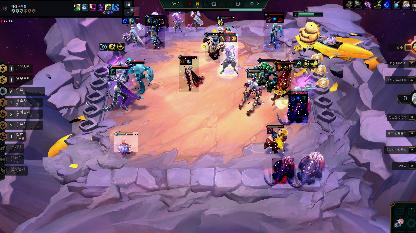1_bard: (267, 126, 285, 154)
1_nomsy: (272, 158, 294, 184)
1_soraka: (188, 10, 204, 32)
1_yasuo: (169, 12, 185, 32)
2_bard: (205, 32, 223, 60)
2_heimerdinger: (114, 132, 138, 152)
2_kaisa: (264, 12, 284, 52)
2_malphite: (258, 60, 276, 90)
2_nilah: (145, 15, 165, 49)
2_nomsy: (302, 154, 324, 186), (288, 91, 308, 123)
2_rakan: (179, 56, 199, 92)
2_soraka: (121, 15, 141, 47)
2_syfen: (106, 66, 132, 110)
2_sylas: (246, 69, 264, 107)
2_yasuo: (220, 34, 238, 76)
2_zac: (127, 59, 151, 91)
2_zeri: (216, 17, 236, 33)
3_zippy: (275, 60, 291, 100)
